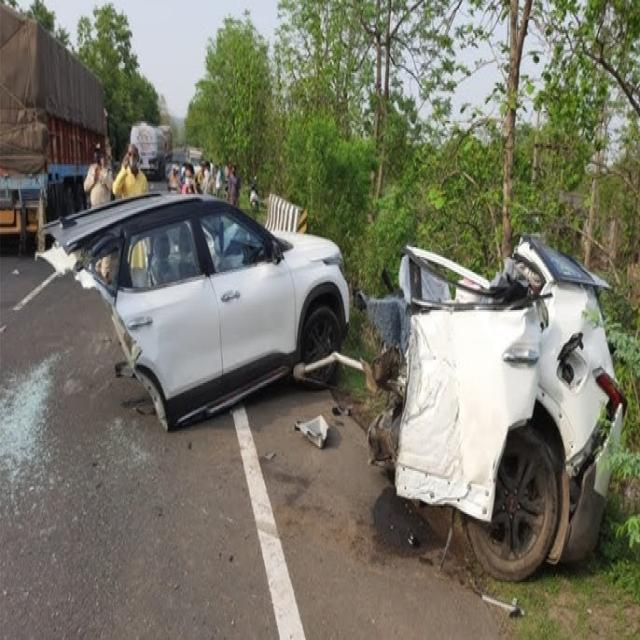car-serious-accident: (43, 119, 625, 602)
